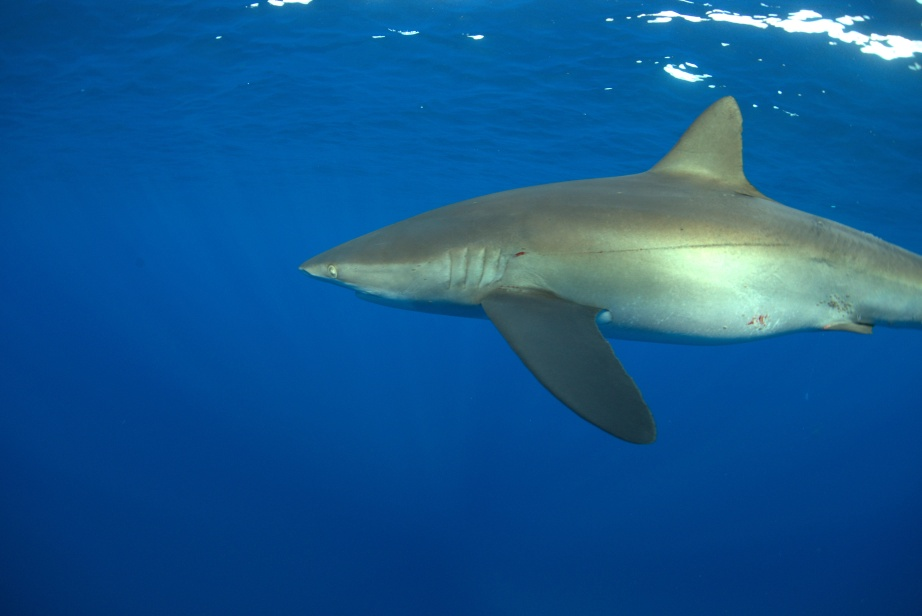Sedoso: (226, 84, 922, 464)
